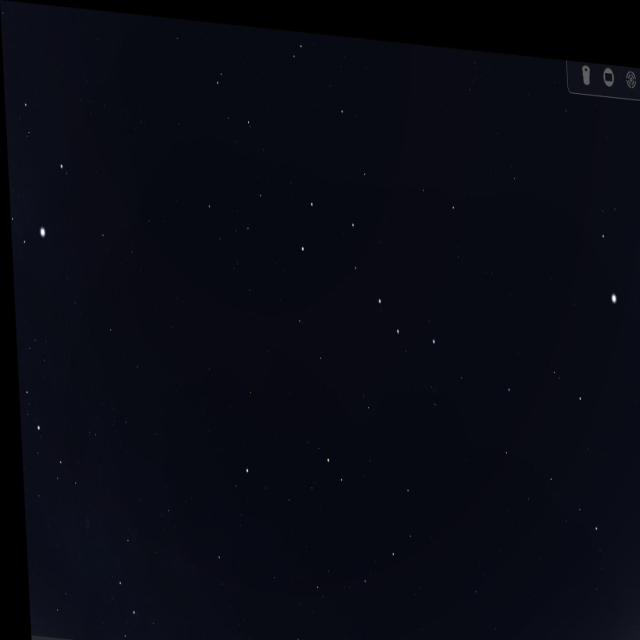cassiopeia: (96, 511, 152, 640)
ursa_major: (294, 187, 436, 342)
